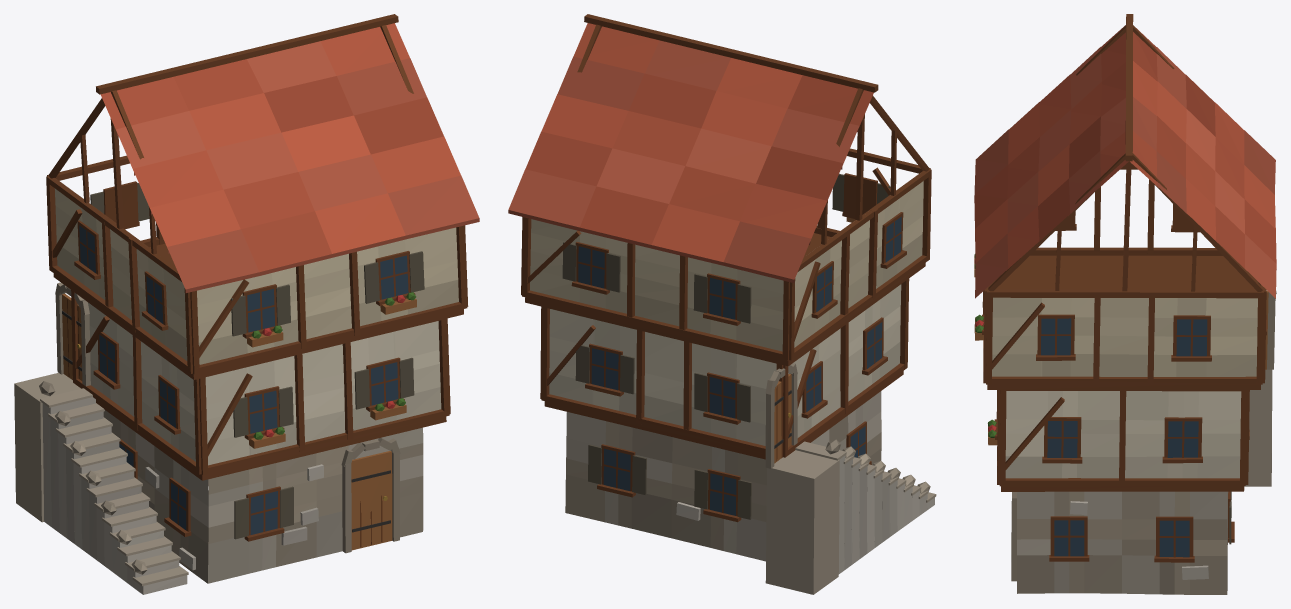
The model's file is timber-house.glb.
3 renders of one model, left to right at view 1: azimuth 30°, elevation 25°; view 2: azimuth 150°, elevation 25°; view 3: azimuth 270°, elevation 25°, orthographic. The views are drawn at different scales.
Visible parts, largest first — view 1: buildings/timber-house; view 2: buildings/timber-house; view 3: buildings/timber-house.
Boxes of the visible parts, bbox=[...] form: buildings/timber-house: bbox=[14, 14, 479, 594]; buildings/timber-house: bbox=[508, 14, 936, 594]; buildings/timber-house: bbox=[974, 14, 1276, 594].
Bounding box in the file's own units: 7.01 × 10.01 × 6.04.
